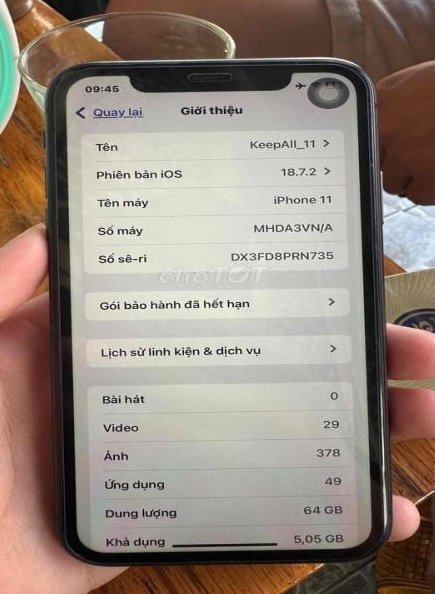scratch: (374, 374, 395, 534)
